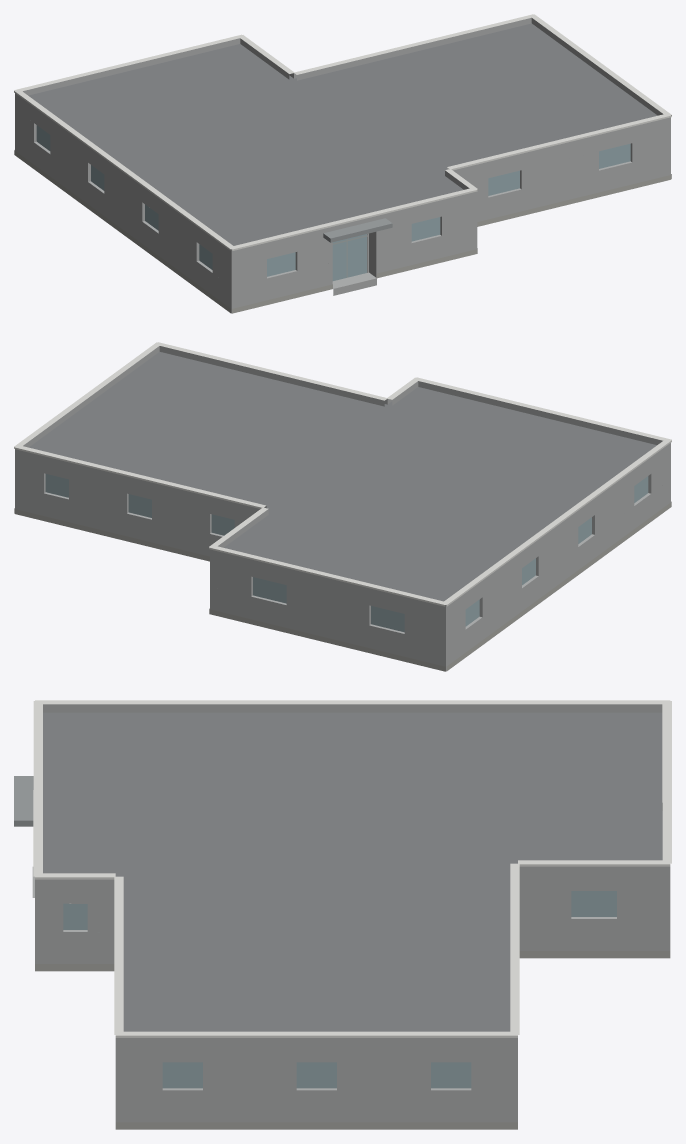
3 renders of one model, top to bottom at view 1: azimuth 30°, elevation 25°; view 2: azimuth 150°, elevation 25°; view 3: azimuth 270°, elevation 25°, orthographic. The views are drawn at different scales.
Parts seen in each view (by area): view 1: b115951824__roof, b115951824__wall, b115951824__trim, b115951824__parapet, b115951824__glass, b115951824__base, b115951824__canopy, b115951824__entranceThreshold_0; view 2: b115951824__roof, b115951824__wall, b115951824__trim, b115951824__parapet, b115951824__base, b115951824__glass; view 3: b115951824__roof, b115951824__wall, b115951824__trim, b115951824__parapet, b115951824__glass, b115951824__base, b115951824__canopy.
Boxes of the visible parts, bbox=[...] form: b115951824__roof: bbox=[28, 23, 657, 313]; b115951824__wall: bbox=[15, 96, 670, 313]; b115951824__trim: bbox=[14, 14, 671, 250]; b115951824__parapet: bbox=[15, 17, 670, 254]; b115951824__glass: bbox=[36, 125, 630, 280]; b115951824__base: bbox=[14, 150, 671, 313]; b115951824__canopy: bbox=[323, 218, 392, 242]; b115951824__entranceThreshold_0: bbox=[332, 272, 376, 295]; b115951824__roof: bbox=[29, 351, 656, 671]; b115951824__wall: bbox=[15, 446, 670, 670]; b115951824__trim: bbox=[14, 342, 671, 606]; b115951824__parapet: bbox=[15, 346, 670, 610]; b115951824__base: bbox=[14, 501, 671, 671]; b115951824__glass: bbox=[45, 474, 648, 632]; b115951824__roof: bbox=[43, 712, 662, 1031]; b115951824__wall: bbox=[35, 872, 670, 1122]; b115951824__trim: bbox=[33, 700, 671, 1037]; b115951824__parapet: bbox=[35, 704, 670, 1043]; b115951824__glass: bbox=[63, 891, 616, 1088]; b115951824__base: bbox=[35, 951, 670, 1129]; b115951824__canopy: bbox=[14, 776, 33, 826].
Bounding box in the file's own units: 30.15 × 4.35 × 25.01.
